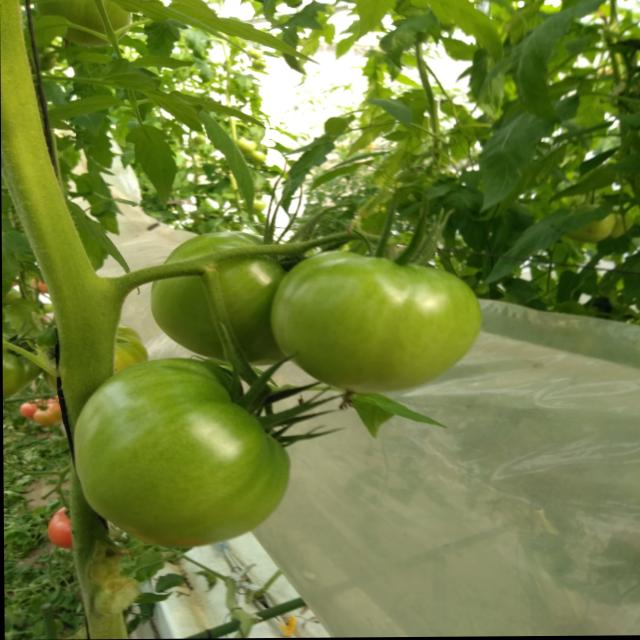yesil: (96, 194, 500, 547)
